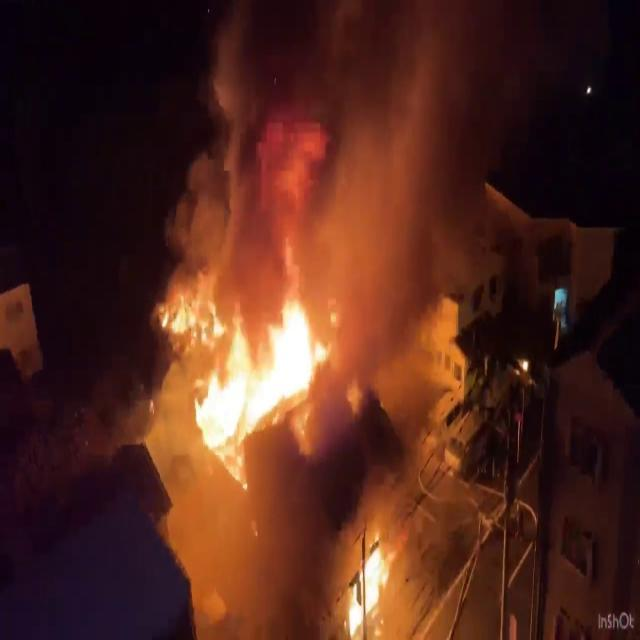Fire: (161, 270, 337, 492), (336, 526, 399, 638)
Smoke: (168, 1, 477, 318)
